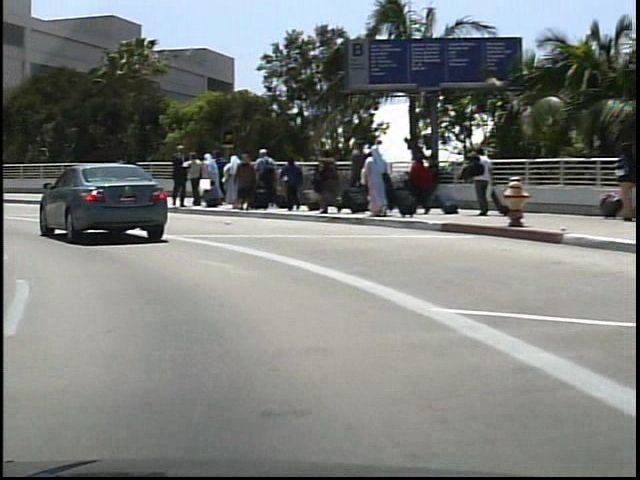person: (600, 138, 634, 222), (464, 142, 490, 221), (108, 149, 136, 212), (165, 142, 189, 213), (180, 149, 201, 210), (122, 154, 141, 196)
